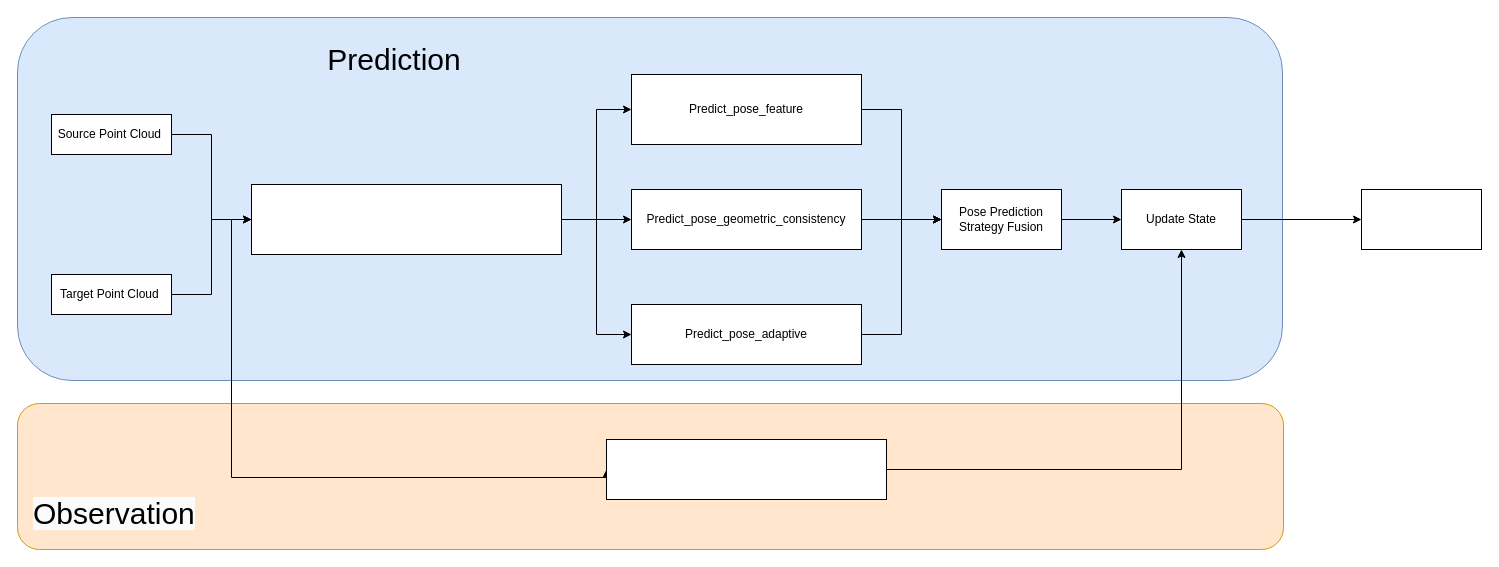
Image size: 1499x567. Some labels were removed from this diagram. Here are the shapes that lost their labels. From the top down, the centre of each, then its label:
At (x=406, y=219): "Extract Features (Point count, centroid, normals, FPFH, shape complexity,)".
At (x=1421, y=219): "Mapping".
At (x=746, y=469): "Apply GICP".
